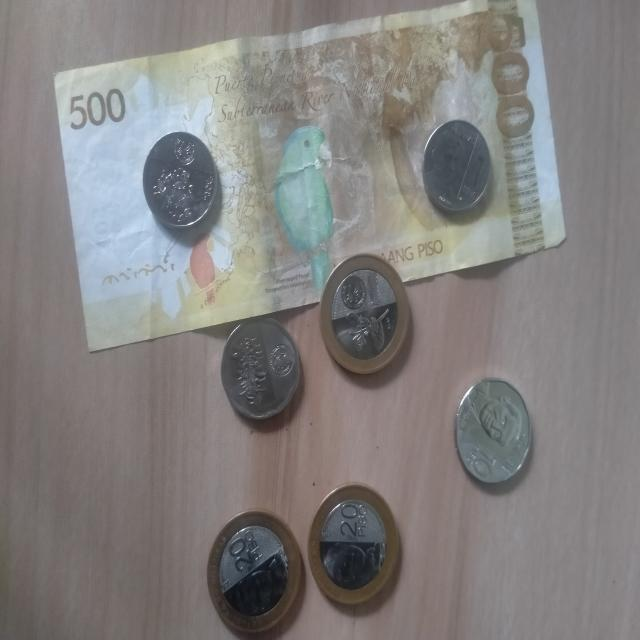20_New_Front: (224, 526, 265, 578), (340, 499, 371, 545)
